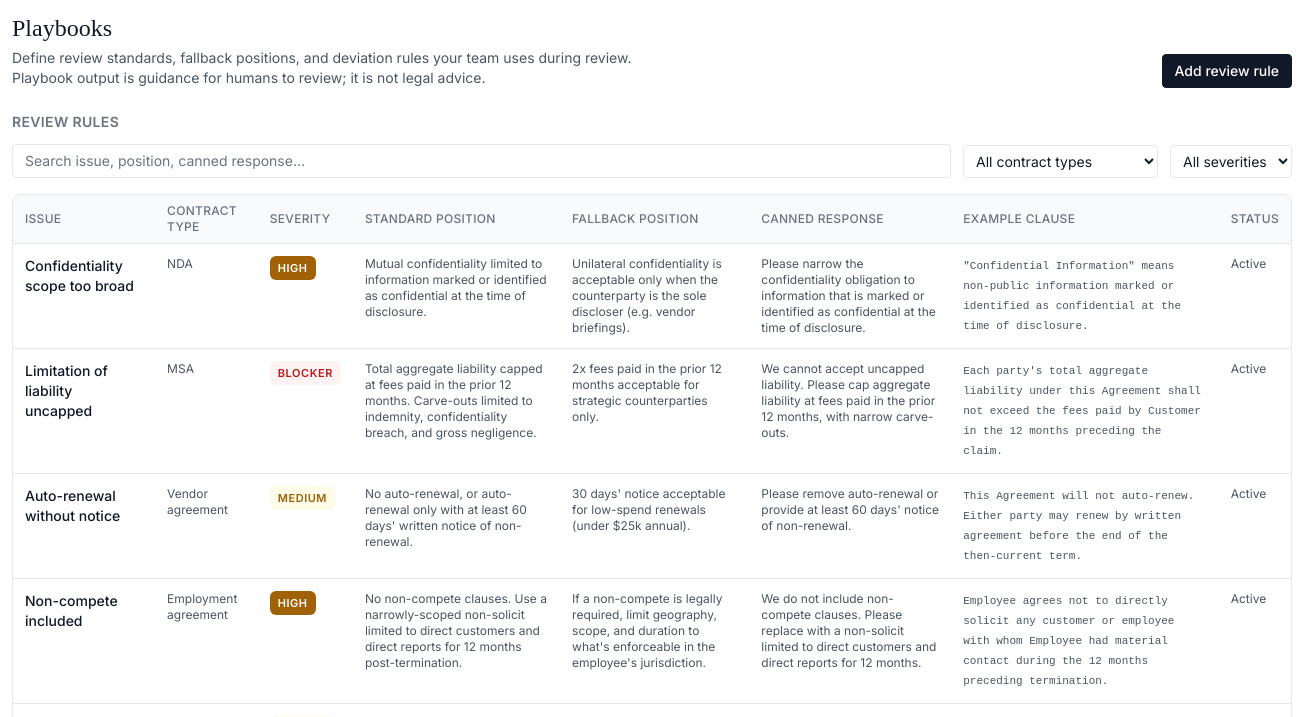
Test: PlaybooksPage › filters the grid by search text across issue/positions/canned/example
Step 1. Type "auto-renewal" into the search field with test id "review-rules-search" → (482, 161), box [12,144,951,178]
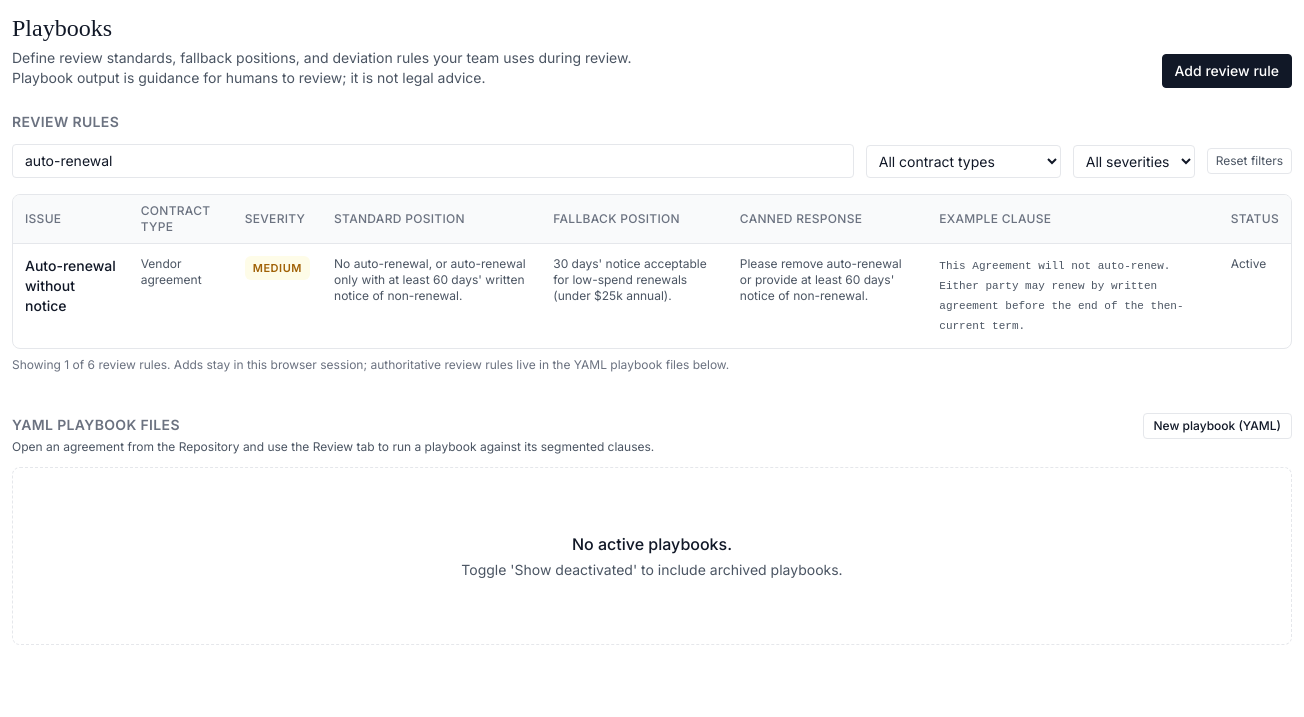
Check: the text "Auto-renewal without notice" is shown, box [13,244,129,348]
Check: the text "Limitation of liability uncapped" is gone
